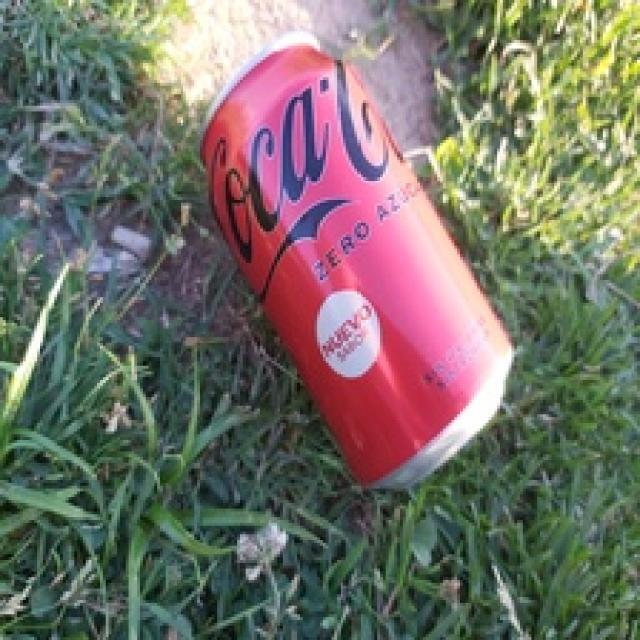recyclable: (198, 44, 514, 493)
